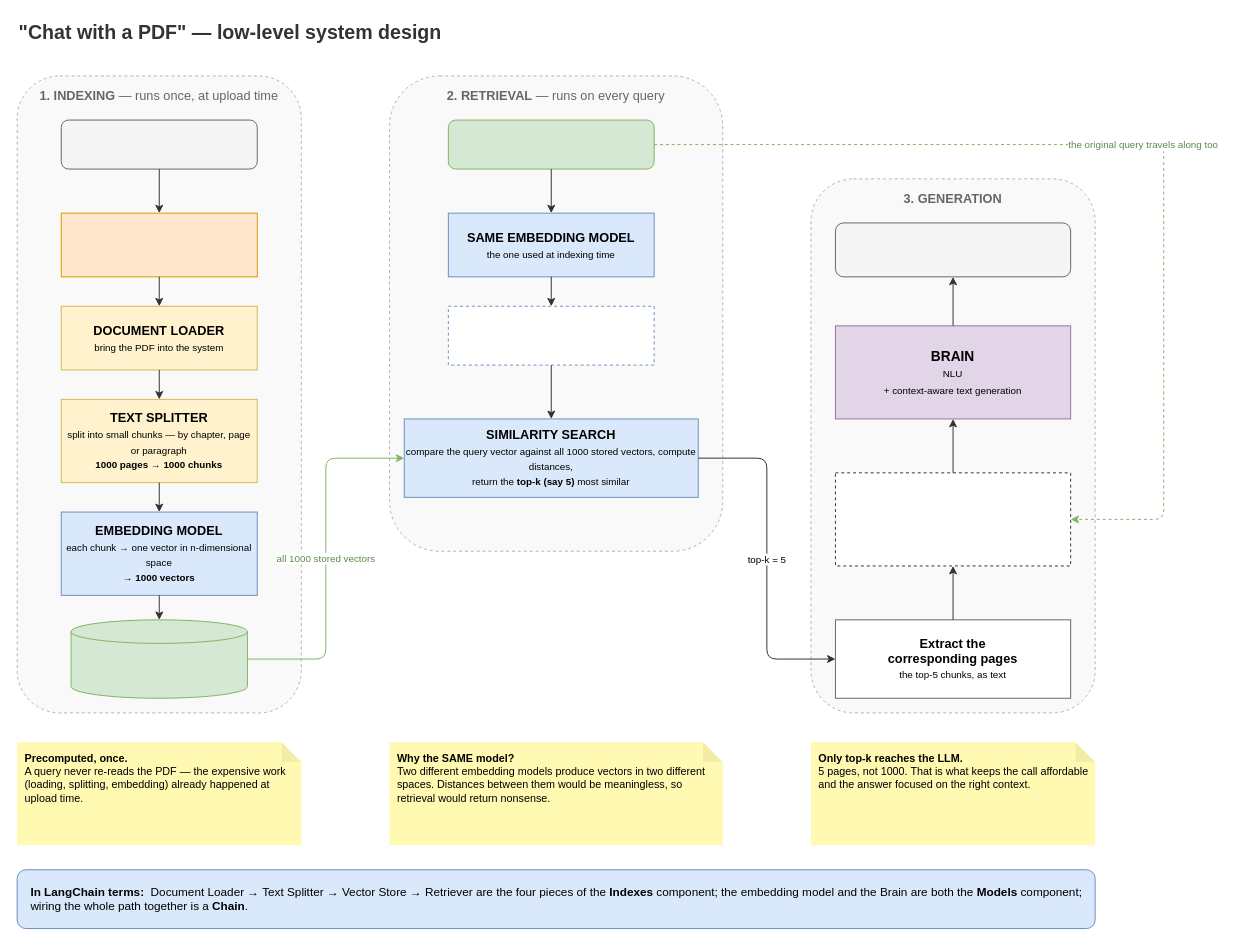
The diagram is 1235 pixels wide and 946 high, and some of its shapes have lost their labels. Each missing label, with the centre of its shape:
"AWS S3 store the PDF in the cloud" belongs at [158,244].
"DATABASE store the embeddings so you can query them later" belongs at [158,658].
"Final output to user" belongs at [952,249].
"Query vector n-dimensional" belongs at [550,335].
"SYSTEM QUERY original query + retrieved pages" belongs at [952,519].
"User query" belongs at [550,144].
"User uploads PDF" belongs at [158,144].
